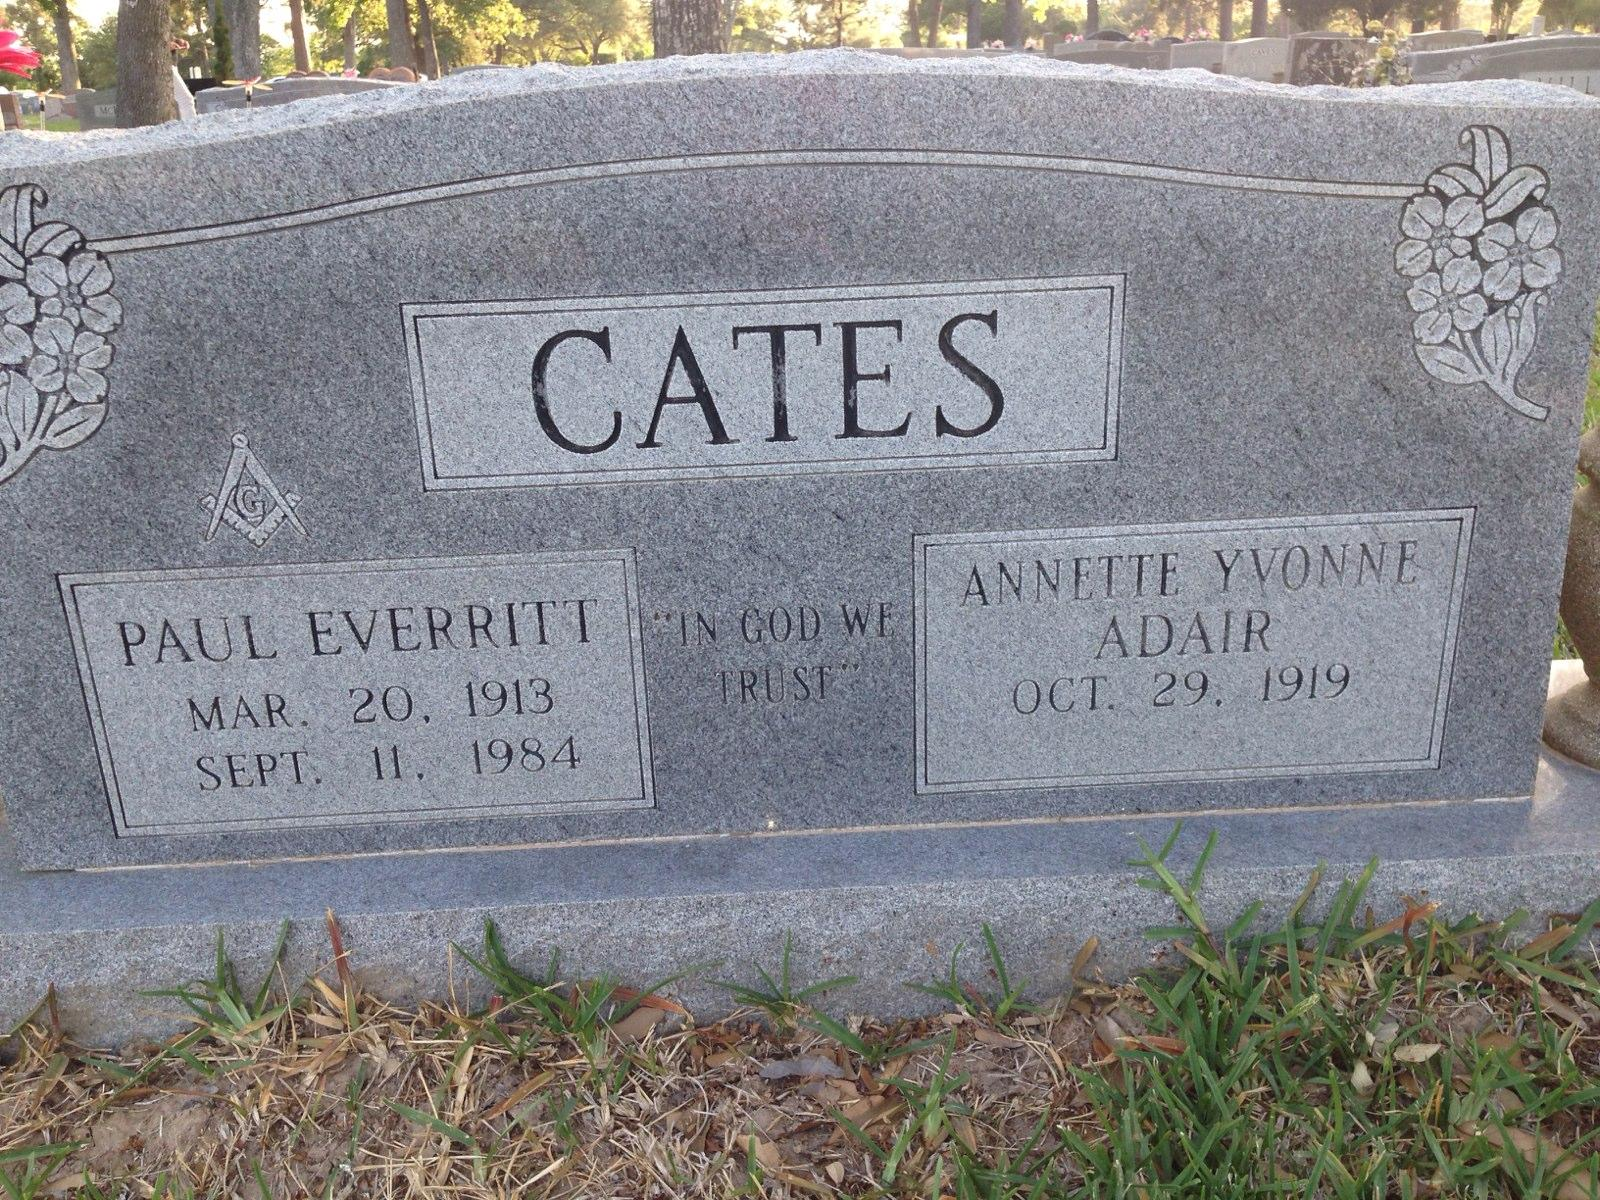upright: (0, 61, 1595, 996)
